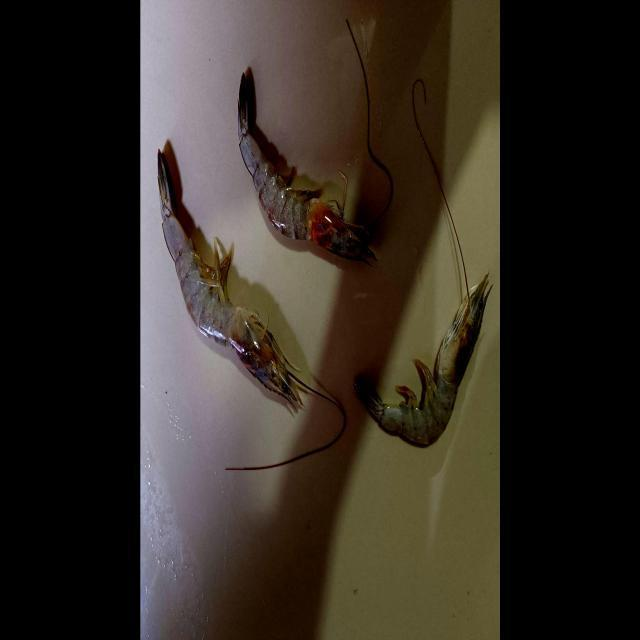shrimp: (158, 150, 302, 408), (238, 75, 375, 264), (355, 279, 487, 444)
